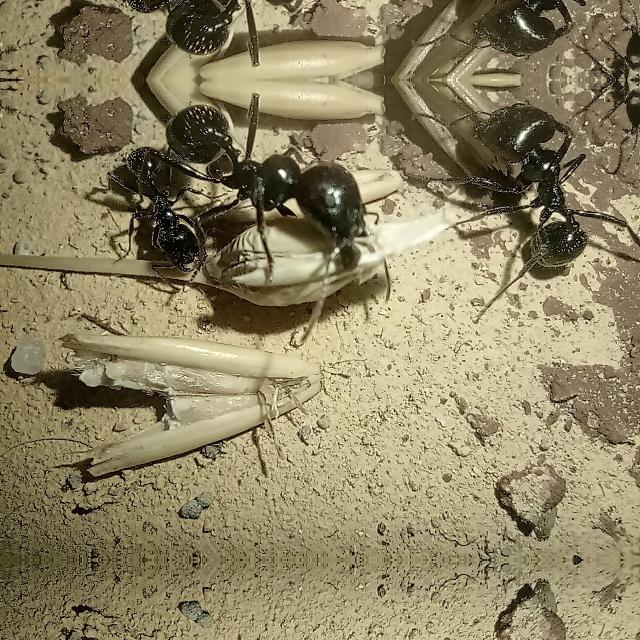Messor: (153, 99, 407, 271), (444, 92, 614, 286), (90, 138, 222, 280), (153, 0, 407, 61), (444, 0, 613, 68)
